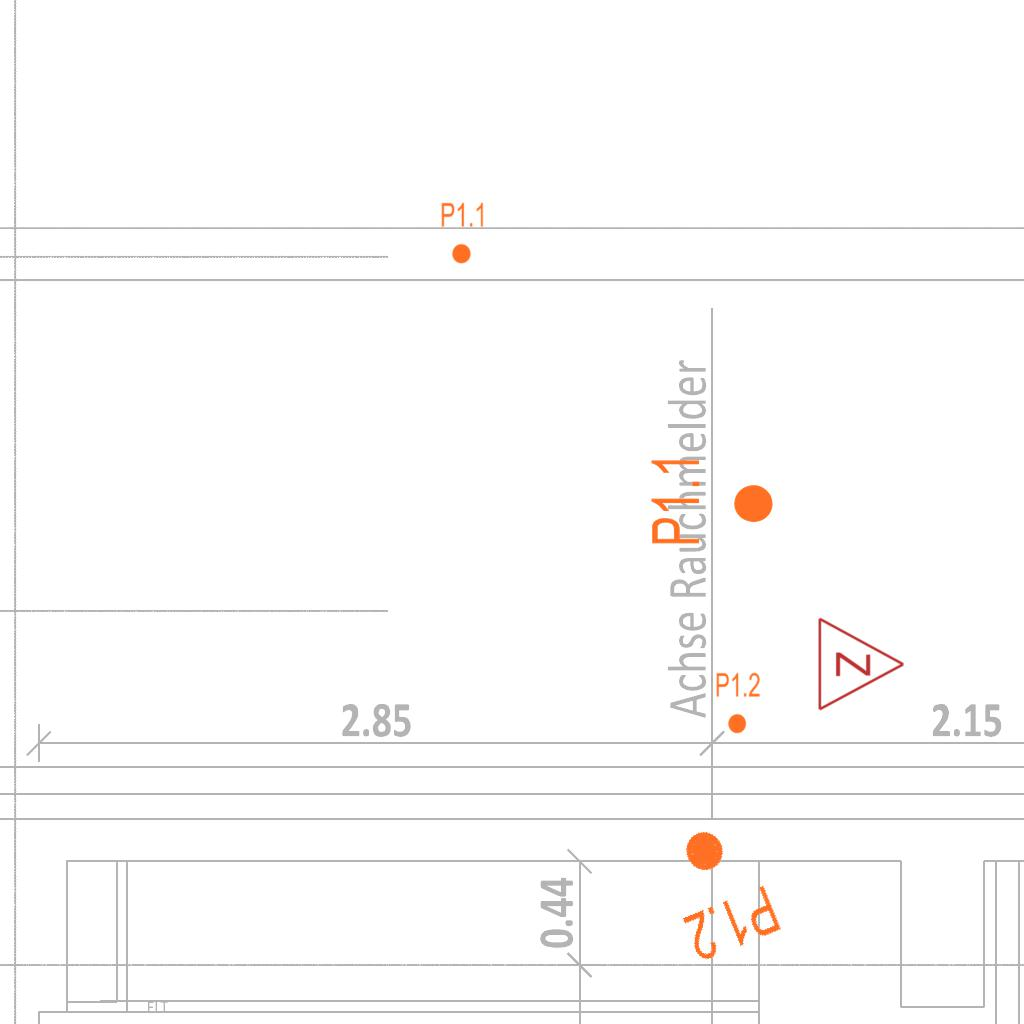Downlight_LED_Einbauleuchten_Flur: (651, 813, 786, 967), (648, 454, 776, 547), (440, 201, 486, 265), (715, 671, 761, 735)
Zimmersignalleuchte: (811, 614, 911, 712)
